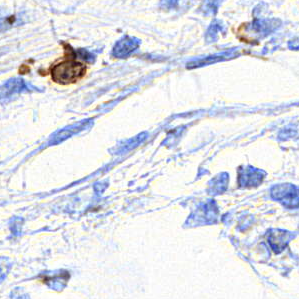Lymphocyte: (48, 58, 88, 86)
